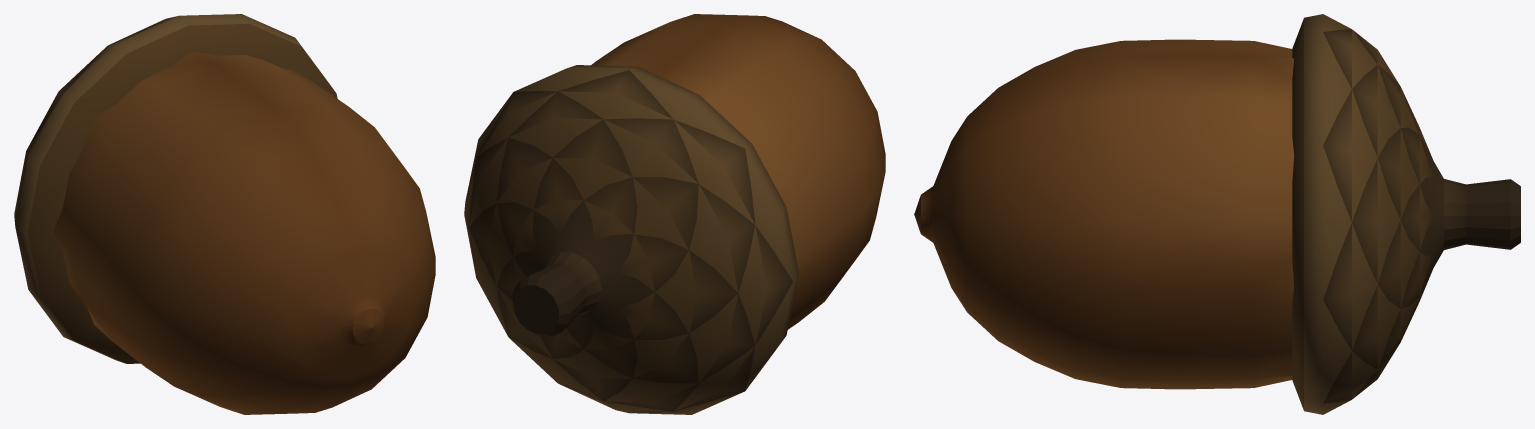
File: trees-seeds-nuts-acorn_v1.glb
3 renders of one model, left to right at view 1: azimuth 30°, elevation 25°; view 2: azimuth 150°, elevation 25°; view 3: azimuth 270°, elevation 25°, orthographic. The views are drawn at different scales.
Parts seen in each view (by area): view 1: Acorn.001; view 2: Acorn.001; view 3: Acorn.001.
Part boxes in pixels (x1,y1,x2,y2): Acorn.001: [14, 14, 435, 414]; Acorn.001: [464, 14, 885, 414]; Acorn.001: [914, 14, 1520, 414].
Size of the model in its own units: 0.0166 by 0.0166 by 0.025.
